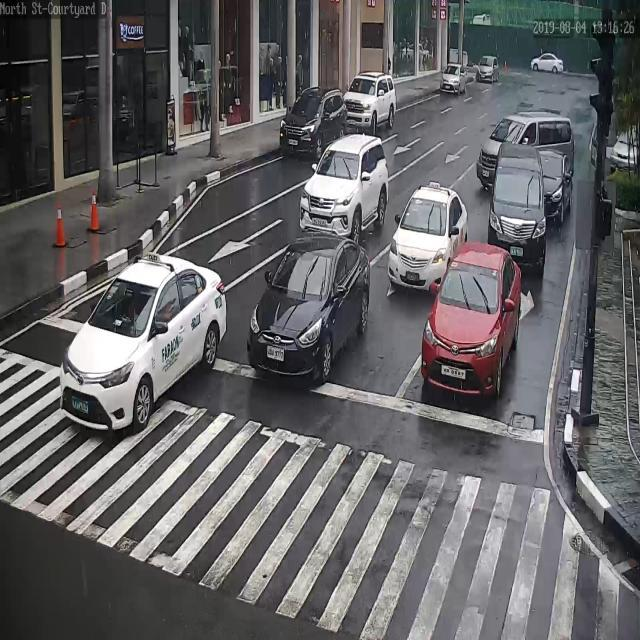car: (58, 257, 229, 435), (248, 238, 369, 384), (421, 243, 523, 402), (302, 132, 389, 238), (388, 182, 469, 294), (279, 85, 349, 155), (343, 72, 397, 133), (609, 126, 640, 174), (441, 63, 472, 96), (475, 54, 502, 83), (530, 52, 564, 74)
van: (489, 142, 545, 279), (477, 114, 574, 184)
